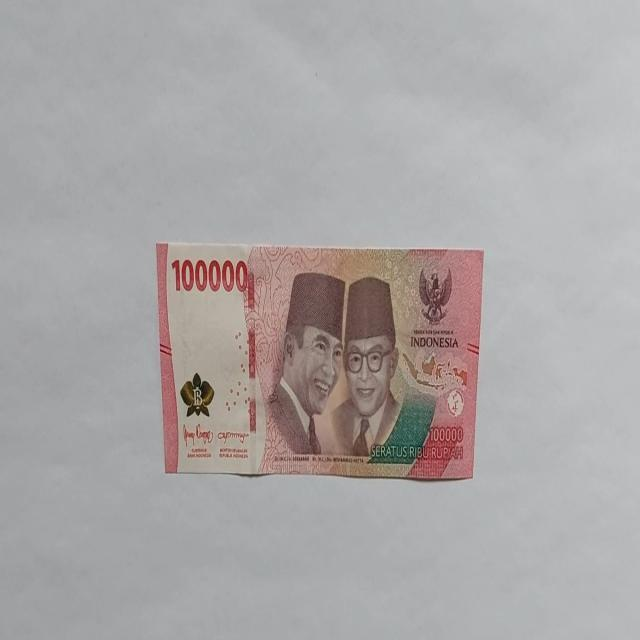seratus ribu rupiah: (156, 241, 484, 480), (258, 270, 346, 472)
